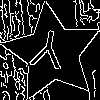Y: (27, 28, 68, 79)
